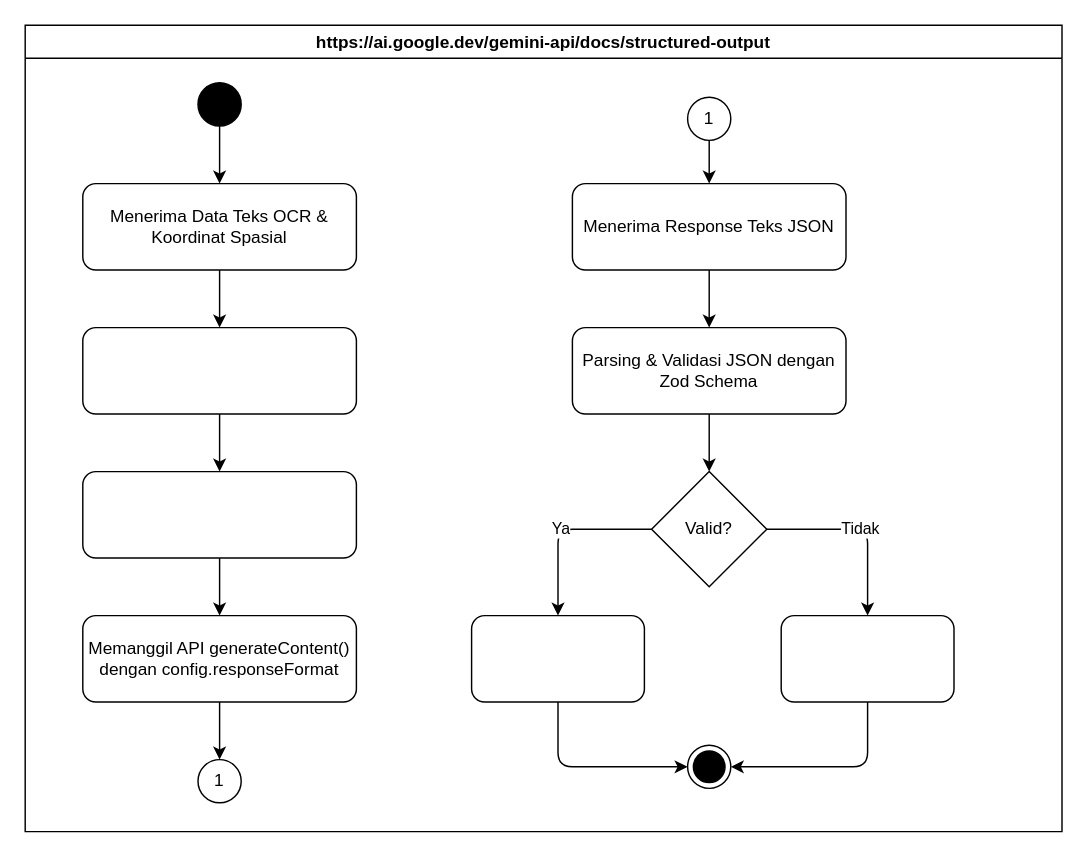
Some shapes in this 1087 by 857 pixel diagram are drawn without their labels. Each missing label, with the centre of its shape:
Melempar Error Validasi: the point at 867,658
Membentuk Prompt Instruksi Ekstraksi: the point at 218,370
Mendefinisikan Skema Zod untuk Output JSON: the point at 218,514
Mengembalikan Data JSON Terstruktur: the point at 557,658
